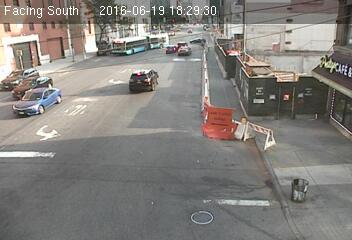neg: (282, 169, 314, 212), (138, 61, 169, 102), (160, 36, 178, 61)
